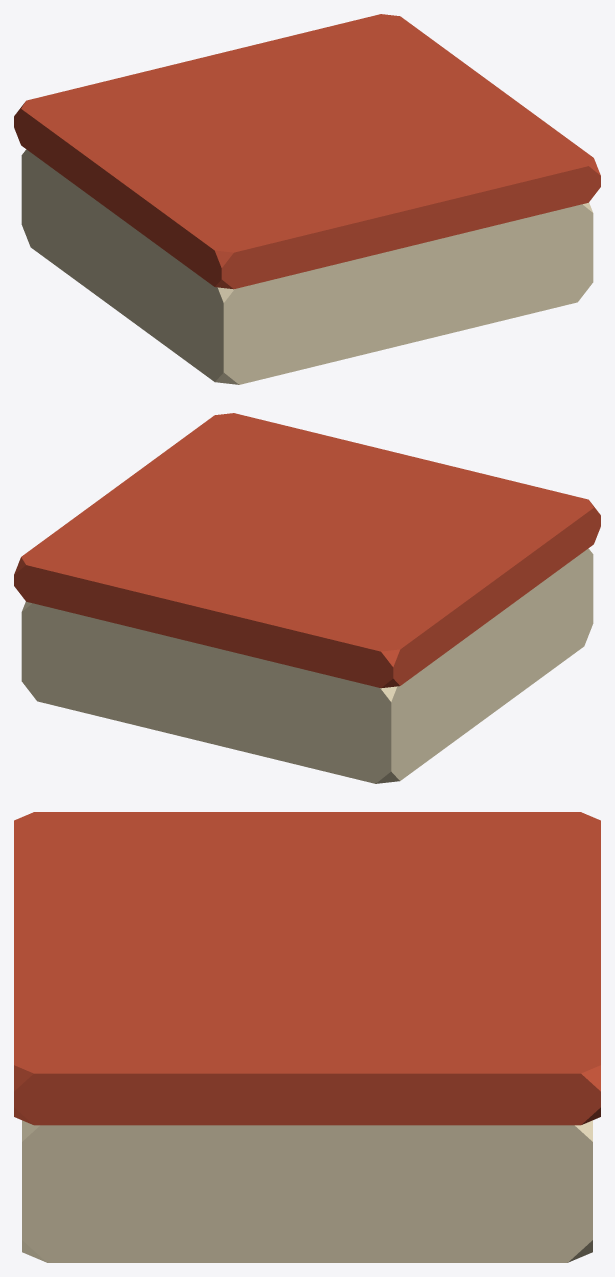
Rendered from BurgerBox.glb.
3 renders of one model, top to bottom at view 1: azimuth 30°, elevation 25°; view 2: azimuth 150°, elevation 25°; view 3: azimuth 270°, elevation 25°, orthographic. The views are drawn at different scales.
Parts seen in each view (by area): view 1: BurgerBox; view 2: BurgerBox; view 3: BurgerBox.
Part boxes in pixels (x1,y1,x2,y2): BurgerBox: (14, 14, 600, 384); BurgerBox: (14, 413, 600, 783); BurgerBox: (14, 812, 600, 1262).
Bounding box in the file's own units: 0.195 × 0.067 × 0.185.
